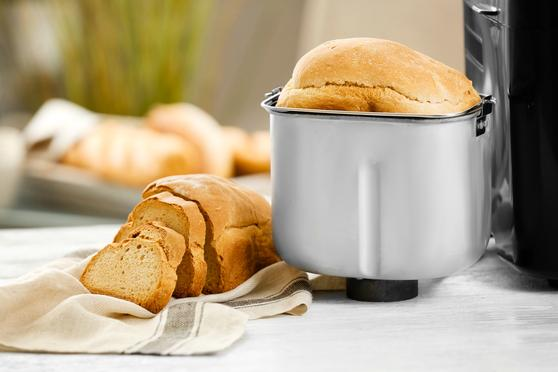white_bread: (279, 39, 478, 112)
